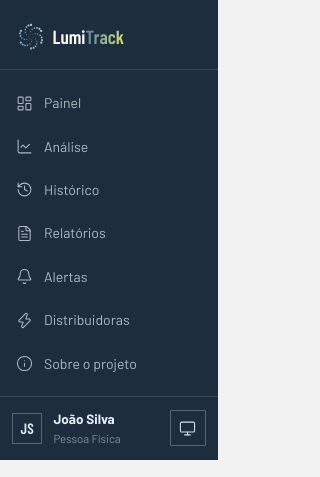
Test: Sidebar — renderização › abre o menu do usuário ao clicar no bloco de identidade do rodapé
Check: the text "João Silva" is shown, box x1=54 y1=410 x2=115 y2=427
Click the button with aria-label "menu do usuário": [85, 428] box x1=12 y1=409 x2=159 y2=448
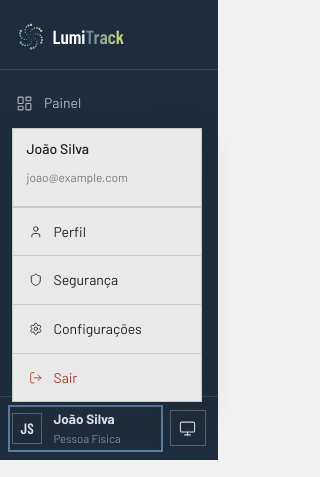
Check: the menu is shown, box x1=12 y1=128 x2=202 y2=402
Check: the menu item "Sair" is shown, box x1=13 y1=353 x2=201 y2=401
